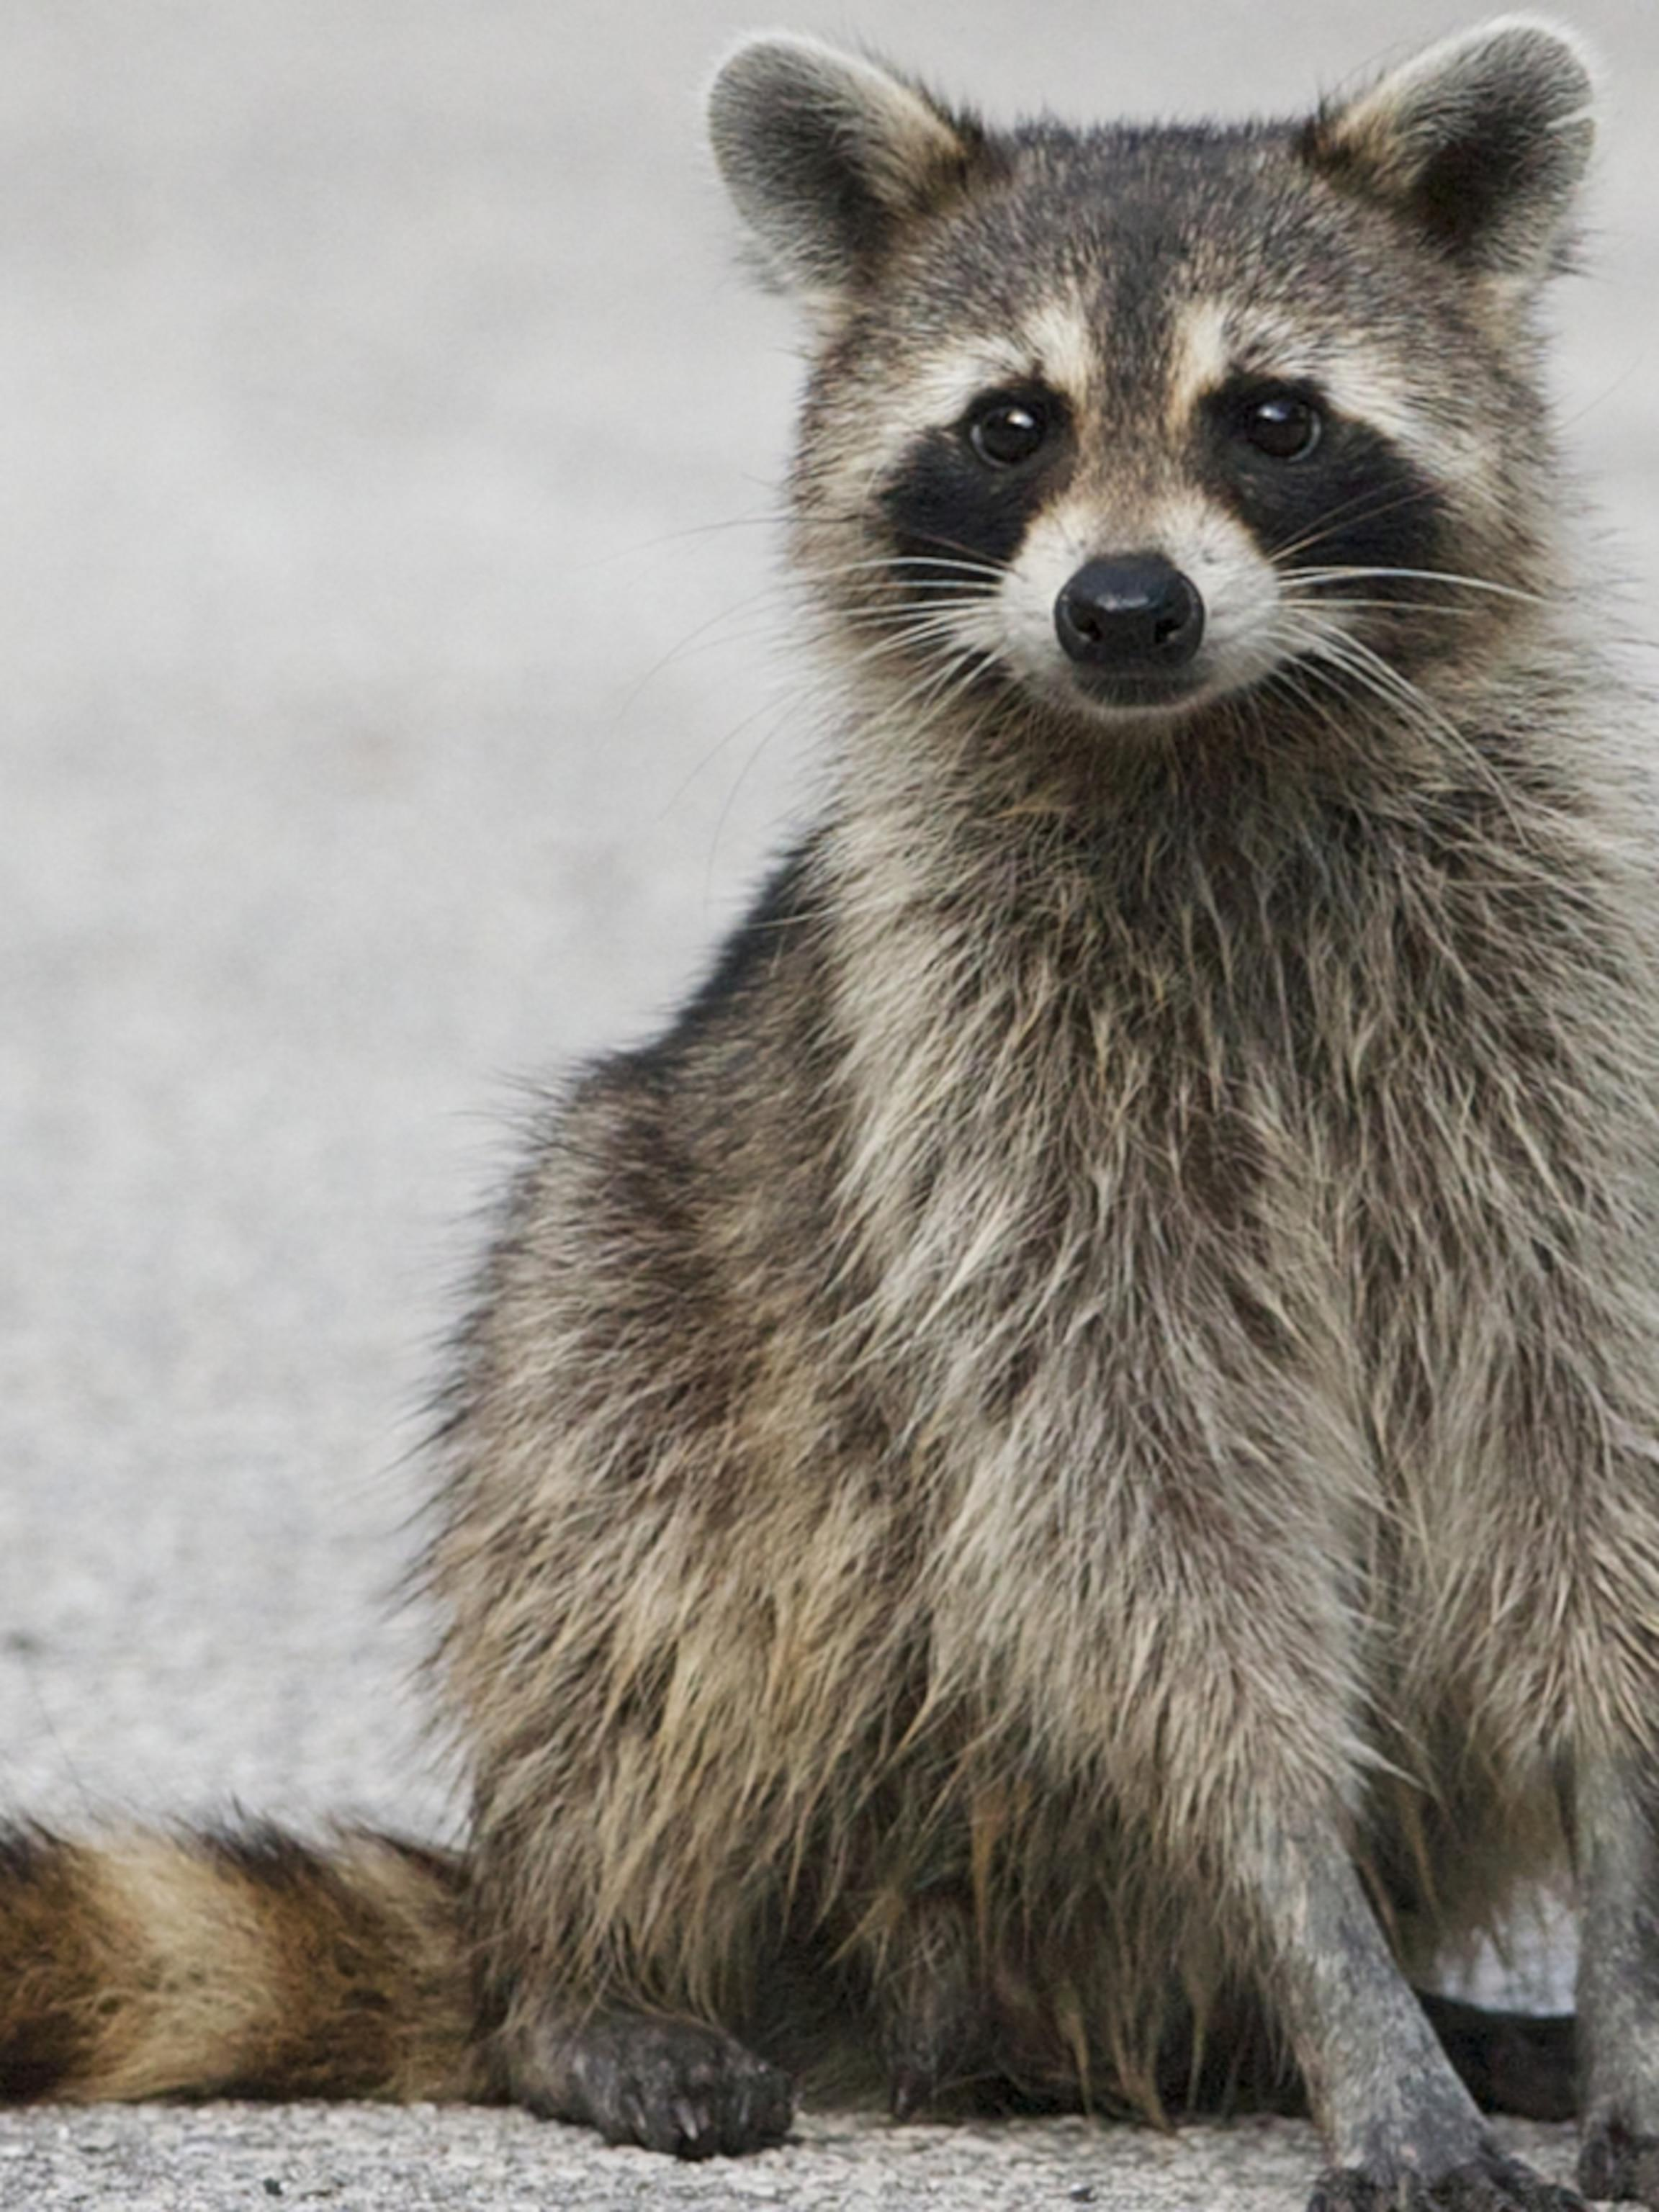raccoon: (0, 24, 1659, 2212)
